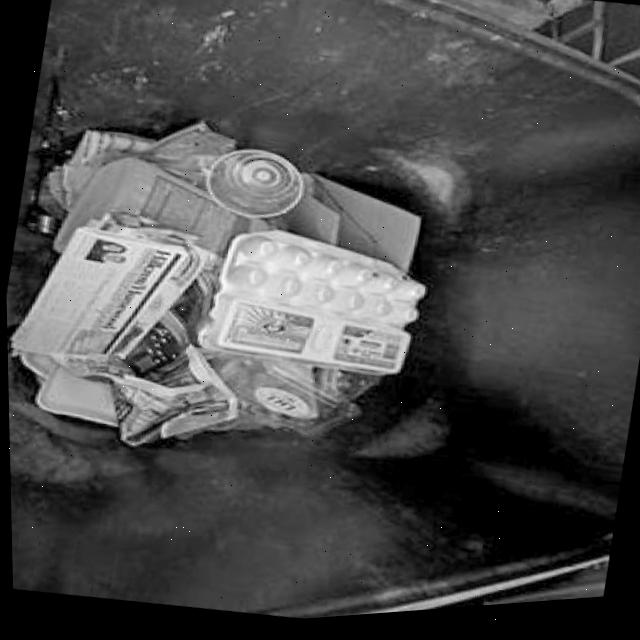Garbage: (5, 0, 640, 617)
Plastic: (200, 233, 423, 378), (205, 153, 301, 220)
Plastic_Container: (54, 160, 256, 278)
